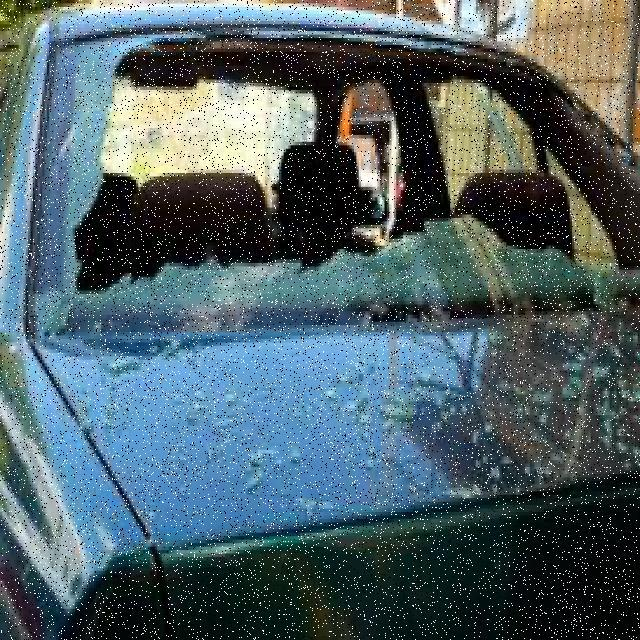Rear-windscreen-Damage: (12, 11, 638, 419)
